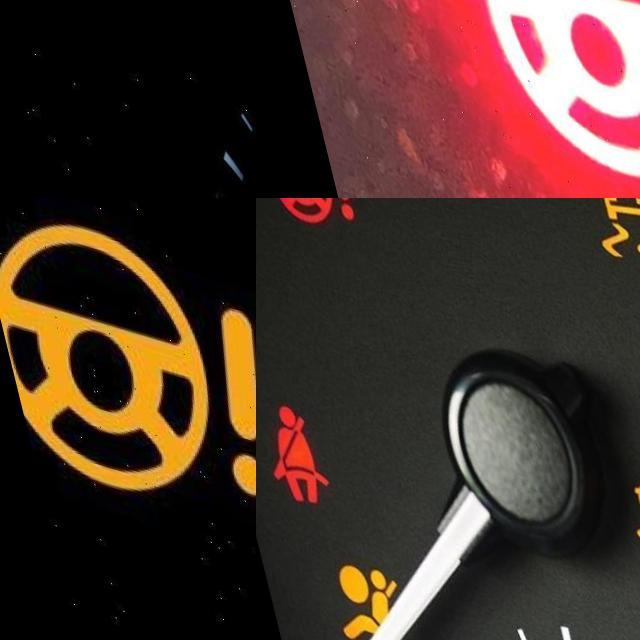Electronic Power Steering: (256, 198, 351, 223)
Electronic Power Steering Warning: (0, 198, 256, 519), (440, 0, 640, 198)
Seat Belt: (256, 392, 311, 503)
